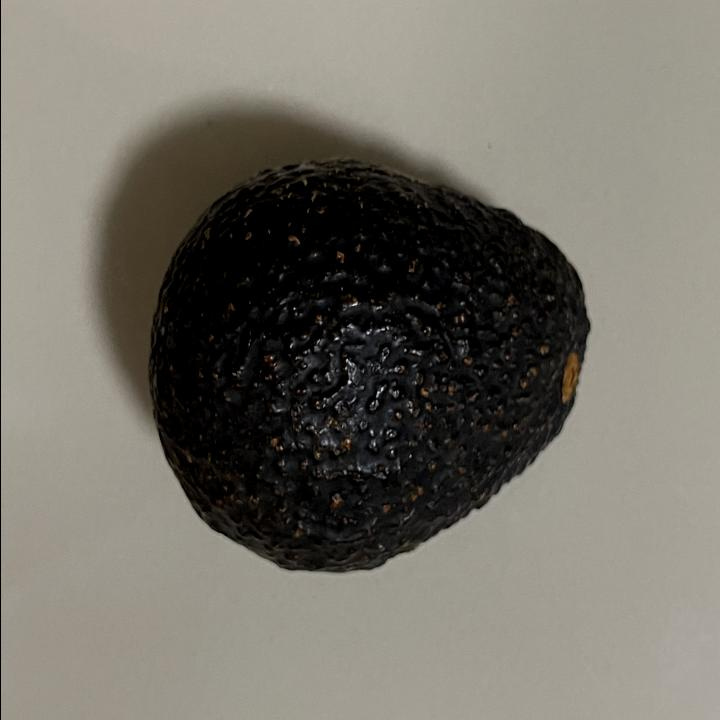Level3: (142, 148, 598, 584)
